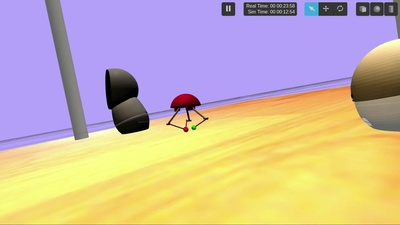mira_robot: (351, 38, 400, 133)
